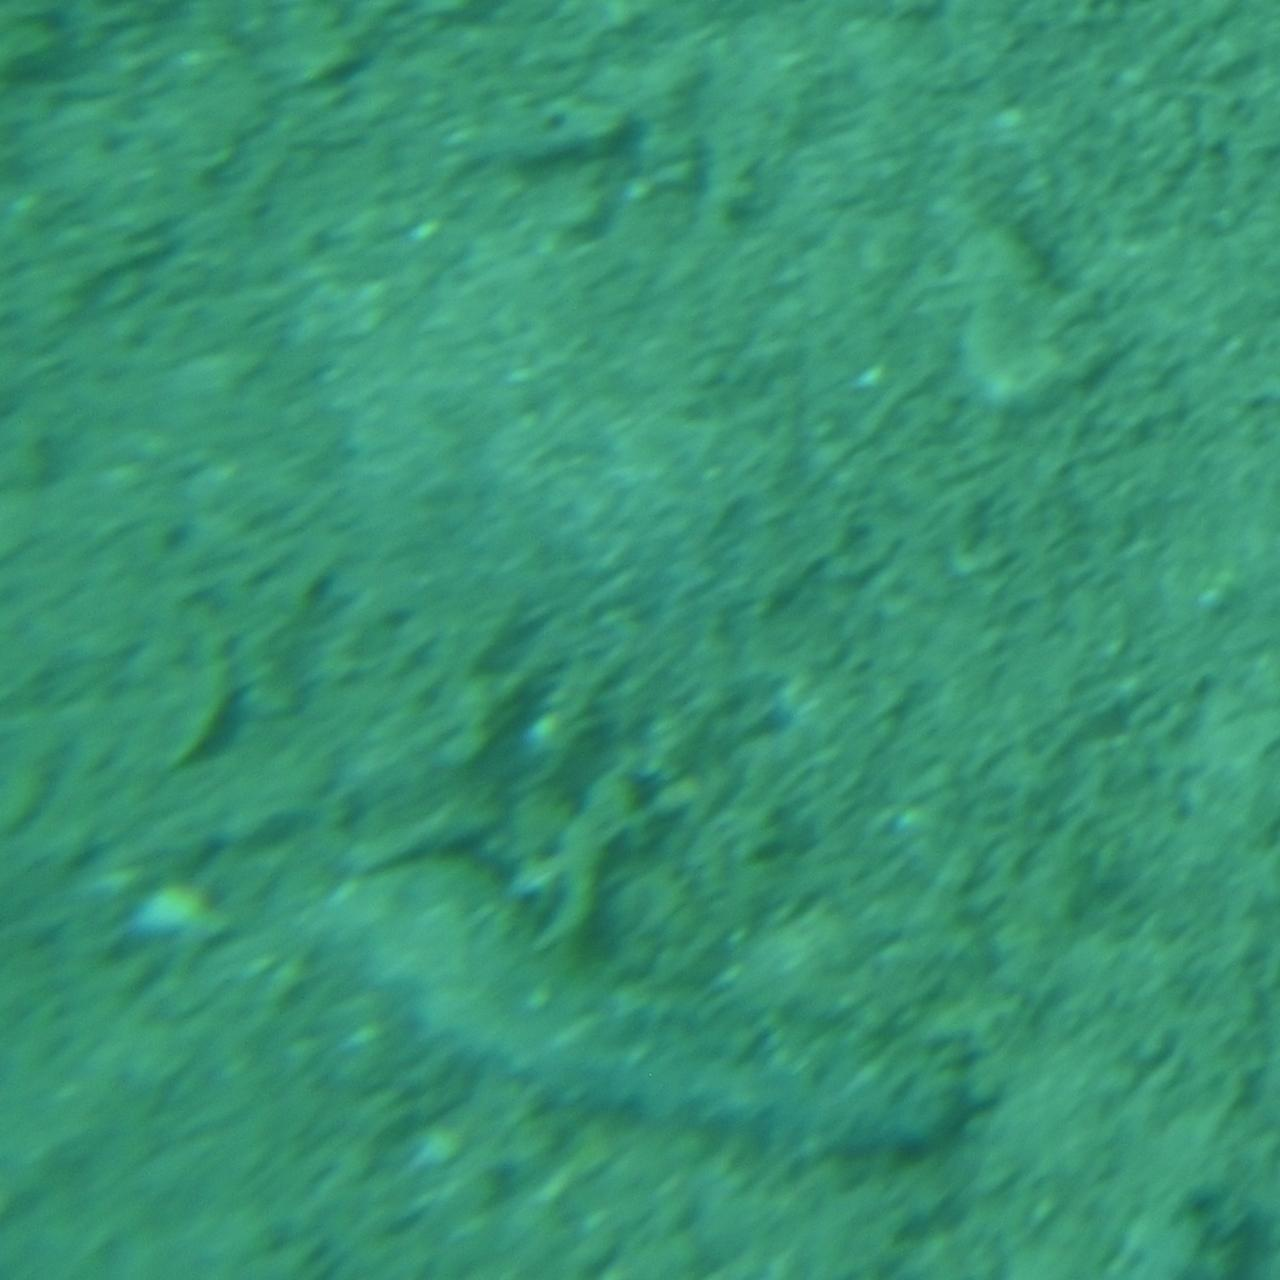Holothuria tubulosa: (298, 846, 968, 1160)
